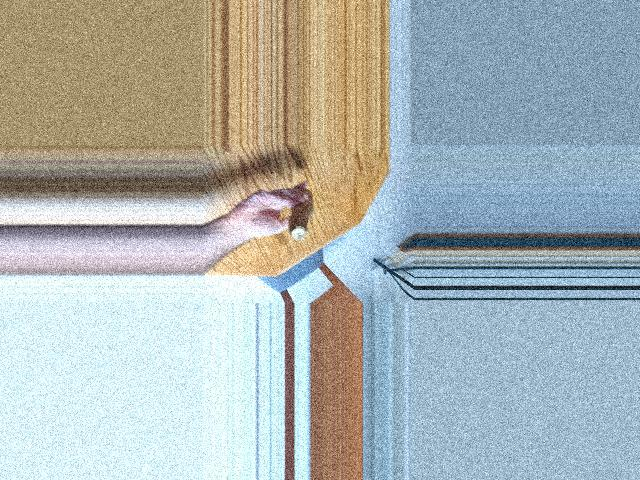sweet_potato: (275, 186, 315, 247)
